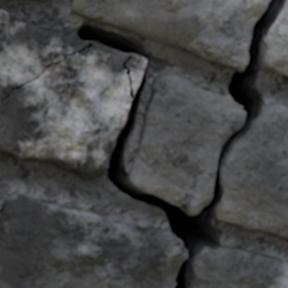brick: (0, 42, 131, 178), (0, 10, 86, 98), (127, 55, 145, 89)
broken_brick: (0, 191, 186, 287), (129, 72, 244, 214), (70, 0, 268, 70), (214, 104, 287, 242), (195, 244, 287, 287), (261, 3, 287, 77)
crack: (0, 0, 287, 287)
